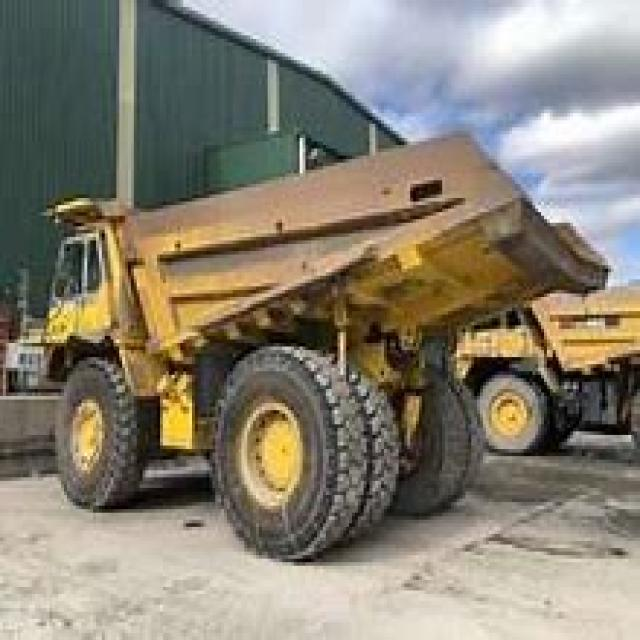dump_truck: (38, 128, 599, 562)
